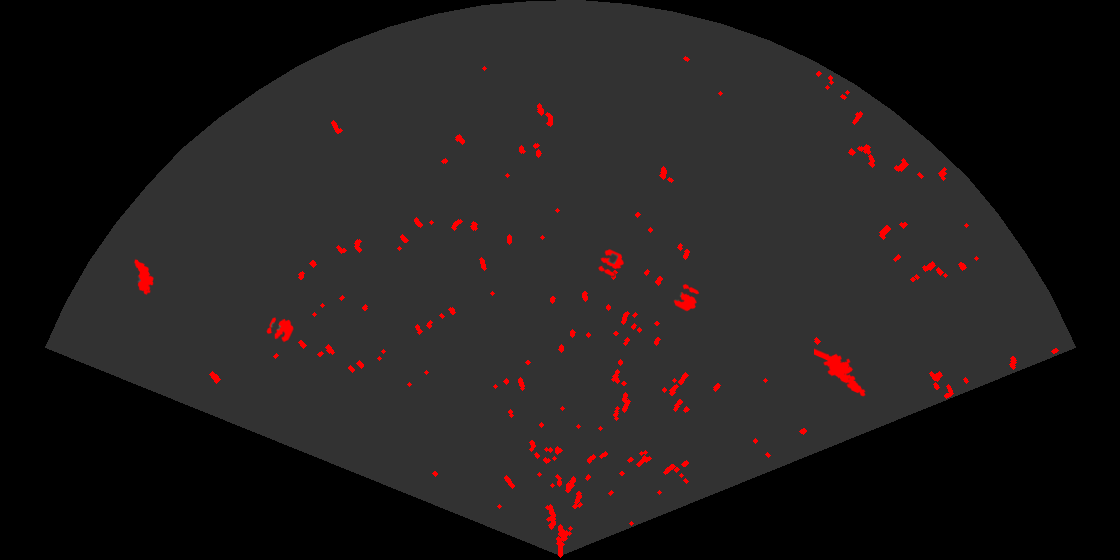AUV: (132, 257, 156, 297)
ball: (597, 247, 626, 278), (672, 282, 701, 313), (265, 316, 295, 344)
frogman: (814, 347, 868, 398)
